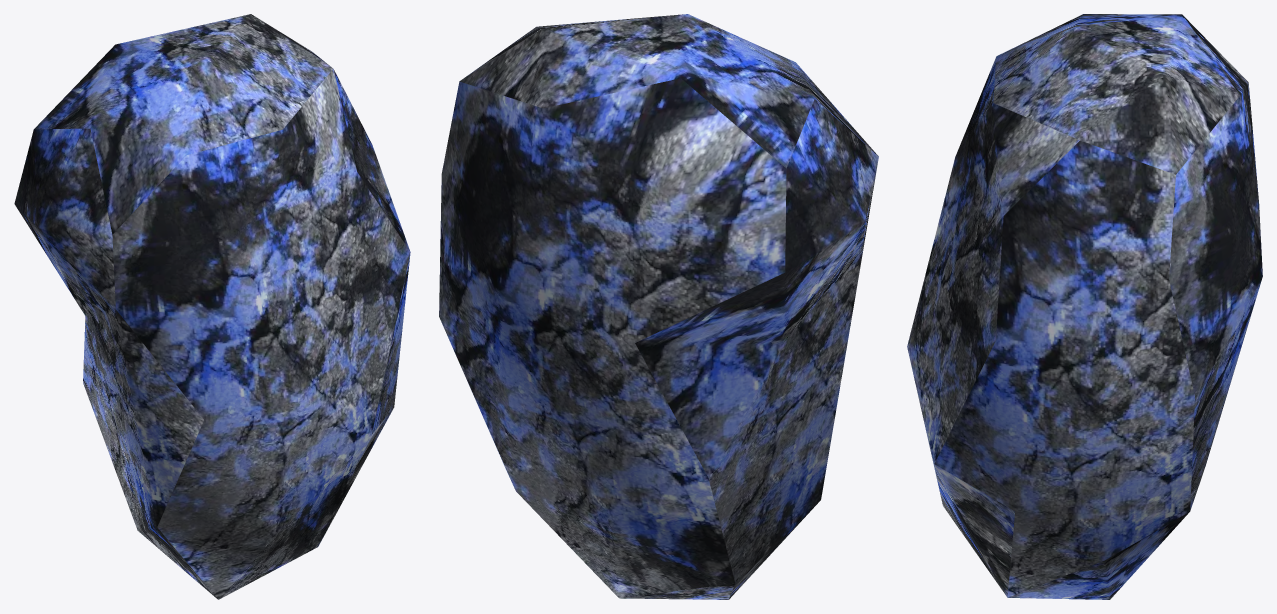
Rendered from ITAT_MAGICGOLEMHEART.glb.
The picture shows the model from 3 angles, left to right: view 1: azimuth 30°, elevation 25°; view 2: azimuth 150°, elevation 25°; view 3: azimuth 270°, elevation 25°; orthographic projection. The views are drawn at different scales.
Parts seen in each view (by area): view 1: Mesh; view 2: Mesh; view 3: Mesh.
Part boxes in pixels (x1,y1,x2,y2): Mesh: (14,14,410,599); Mesh: (439,14,878,599); Mesh: (907,14,1262,599).
Bounding box in the file's own units: 0.2162 × 0.3053 × 0.1735.
1 material, 1 textured.
